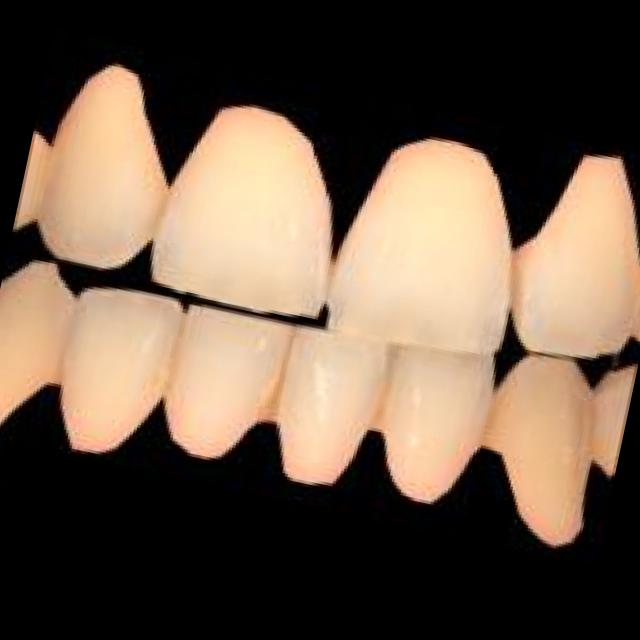1: (313, 98, 540, 362), (154, 86, 368, 324), (21, 49, 190, 284), (489, 123, 640, 375), (482, 340, 624, 554), (48, 276, 182, 467), (365, 337, 496, 514), (264, 323, 396, 496), (154, 303, 286, 473), (0, 248, 74, 466)
karies: (562, 380, 615, 470), (493, 240, 532, 320), (253, 360, 296, 420), (472, 390, 511, 449)
